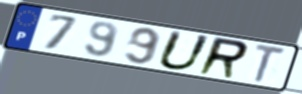7: (45, 13, 80, 52)
9: (124, 26, 162, 66), (84, 20, 119, 59)
R: (194, 35, 251, 81)
T: (252, 43, 288, 85)
U: (155, 29, 214, 72)
